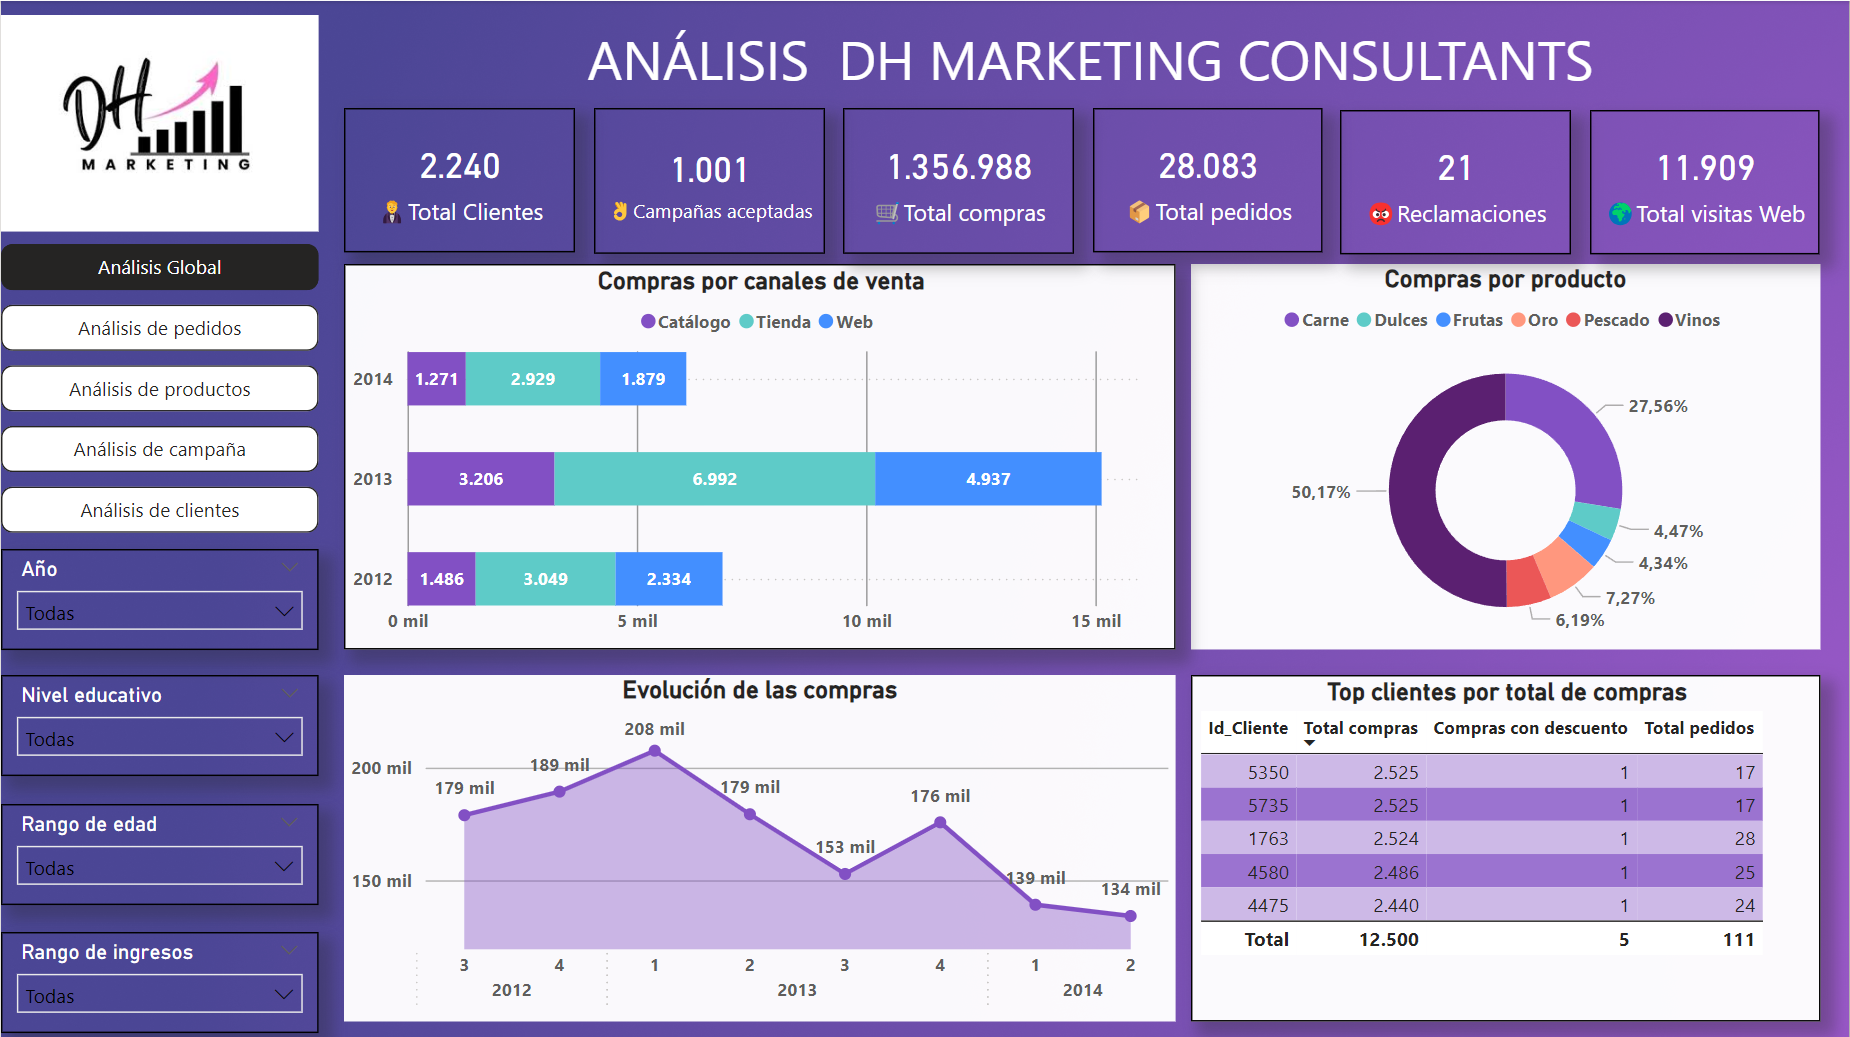

What the dashboard file says about the page in this screenshot:
{"tool":"powerbi","page":{"name":"Análisis Global","canvas":[1280,720],"ordinal":0},"visuals":[{"type":"card","fields":{"Values":["DAX Medidas.Total Clientes"]},"box":[237.8,74.1,160.4,99.5],"z":0},{"type":"slicer","fields":{"Values":["Calendario.Año"]},"box":[0,379.4,220.1,69.7],"z":1000},{"type":"card","fields":{"Values":["DAX Medidas.Total campañas aceptadas"]},"box":[410.5,74.1,160.4,100.6],"z":2000},{"type":"donutChart","title":"Compras por producto","fields":{"Y":["DAX Medidas.% Compras Carne","DAX Medidas.% Compras Dulces","DAX Medidas.% Compras Fruta","DAX Medidas.% Compras Oro","DAX Medidas.% Compras pescado","DAX Medidas.% Compras Vinos"]},"box":[824,182.5,435.8,266.5],"z":3000},{"type":"barChart","title":"Compras por canales de venta","fields":{"Category":["Calendario.Año"],"Y":["Sum(marketing_campaign.Compras_Catálogo)","Sum(marketing_campaign.Compras_Tienda)","Sum(marketing_campaign.Compras_Web)"]},"box":[237.8,182.5,576.2,266.5],"z":4000},{"type":"slicer","fields":{"Values":["D_Ingresos.Rango_Ingresos"]},"box":[0,644.5,219.9,70.3],"z":5000},{"type":"card","fields":{"Values":["DAX Medidas.Total reclamaciones"]},"box":[927.7,75.2,160.4,99.5],"z":6000},{"type":"image","box":[0,10,220.1,150],"z":7000},{"type":"textbox","box":[237.8,10,1034.1,64.1],"z":8000},{"type":"card","fields":{"Values":["DAX Medidas.Total compras"]},"box":[583.3,74.1,160.4,100.6],"z":9000},{"type":"card","fields":{"Values":["DAX Medidas.Total pedidos"]},"box":[756.1,74.1,159.3,99.5],"z":10000},{"type":"slicer","fields":{"Values":["D_Edad.Rango_Edad"]},"box":[0,556.5,219.8,70.4],"z":11000},{"type":"pageNavigator","box":[0,168.1,220.1,200.2],"z":12000},{"type":"slicer","fields":{"Values":["D_Nivel_Estudios.Nivel_Estudios"]},"box":[0,466.7,220.1,69.7],"z":13000},{"type":"card","fields":{"Values":["DAX Medidas.Total visitas Web"]},"box":[1100.5,75.2,159.3,99.5],"z":14000},{"type":"areaChart","title":"Evolución de las compras","fields":{"Y":["DAX Medidas.Total compras"],"Category":["Calendario.Año","Calendario.Trimestre"]},"box":[237.8,466.7,576.2,240],"z":15000},{"type":"tableEx","title":"Top clientes por total de compras","fields":{"Values":["marketing_campaign.Id_Cliente","DAX Medidas.Total compras","DAX Medidas.Total compras con descuento","DAX Medidas.Total pedidos"]},"box":[824,467,436,240],"z":16000}]}

Visuals, with their boxes in screenshot pixels (x1, y1, x2, y2), scaled from the page's 1280x720 canvas onto the 1850x1037 screenshot:
card - DAX Medidas.Total Clientes: bbox=(344, 107, 576, 250)
slicer - Calendario.Año: bbox=(0, 546, 318, 647)
card - DAX Medidas.Total campañas aceptadas: bbox=(593, 107, 825, 252)
"Compras por producto" donutChart: bbox=(1191, 263, 1821, 647)
"Compras por canales de venta" barChart: bbox=(344, 263, 1176, 647)
slicer - D_Ingresos.Rango_Ingresos: bbox=(0, 928, 318, 1030)
card - DAX Medidas.Total reclamaciones: bbox=(1341, 108, 1573, 252)
image: bbox=(0, 14, 318, 230)
textbox: bbox=(344, 14, 1838, 107)
card - DAX Medidas.Total compras: bbox=(843, 107, 1075, 252)
card - DAX Medidas.Total pedidos: bbox=(1093, 107, 1323, 250)
slicer - D_Edad.Rango_Edad: bbox=(0, 802, 318, 903)
pageNavigator: bbox=(0, 242, 318, 530)
slicer - D_Nivel_Estudios.Nivel_Estudios: bbox=(0, 672, 318, 773)
card - DAX Medidas.Total visitas Web: bbox=(1591, 108, 1821, 252)
"Evolución de las compras" areaChart: bbox=(344, 672, 1176, 1018)
"Top clientes por total de compras" tableEx: bbox=(1191, 673, 1821, 1018)
